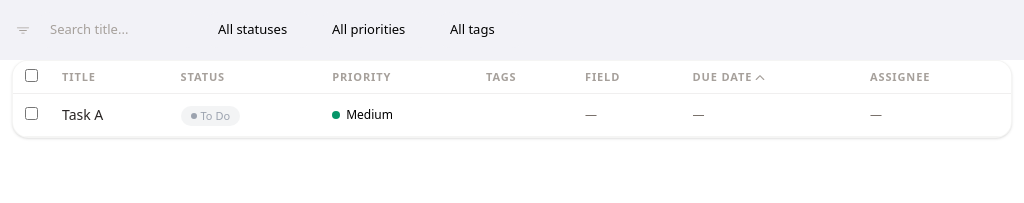
Test: ListView › selecting tasks shows bulk action bar
The image size is (1024, 203).
Expected: the text "1 selected" is not shown
Note: Select the task
Click the checkbox named "Select Task A".
click(32, 114)  # box left=25, top=107, right=38, bottom=120
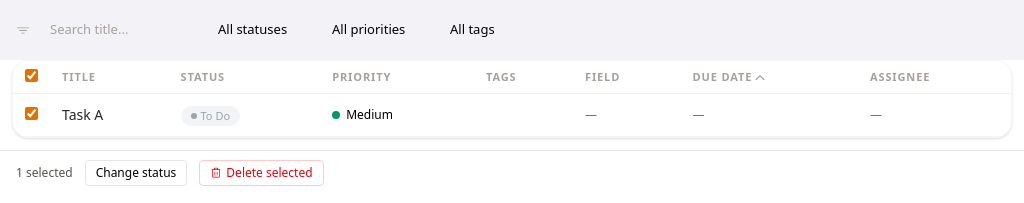
Expected: the text "1 selected" is shown, left=16, top=165, right=73, bottom=181
Expected: the button "Change status" is shown, left=85, top=160, right=187, bottom=186
Expected: the button "Delete selected" is shown, left=199, top=160, right=324, bottom=186
